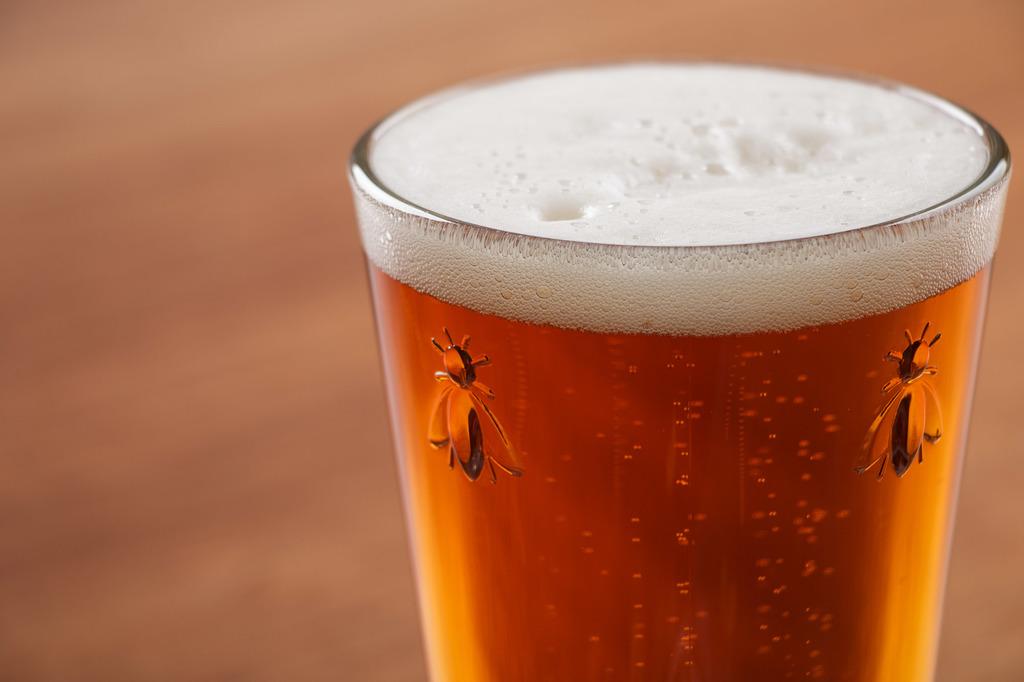Beer: (362, 62, 1002, 682)
